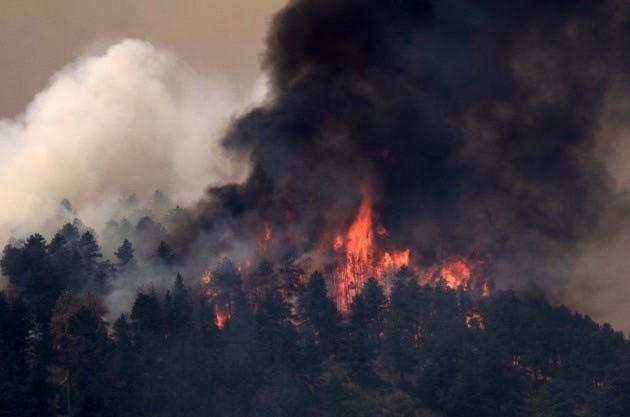fire: (312, 208, 416, 316), (427, 255, 490, 307), (206, 297, 237, 331), (198, 266, 212, 291)
smoke: (225, 0, 621, 208), (12, 61, 193, 307)
